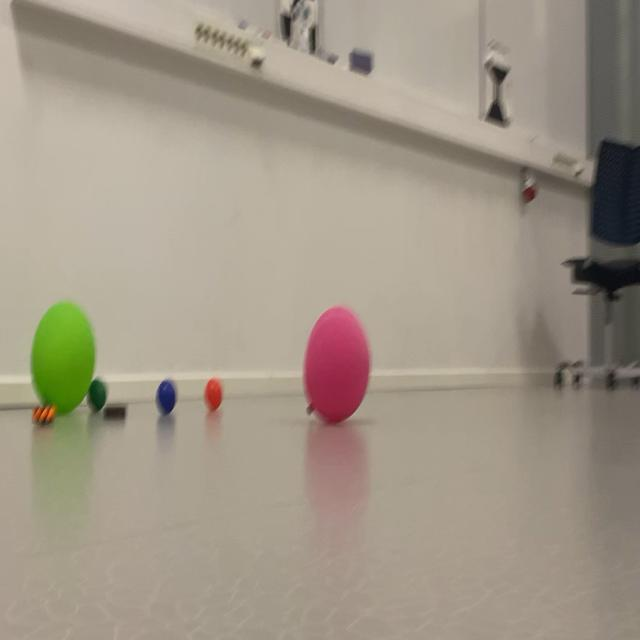7: (201, 332, 249, 472)
green ball: (145, 360, 187, 484)
red ball: (87, 350, 113, 426)
